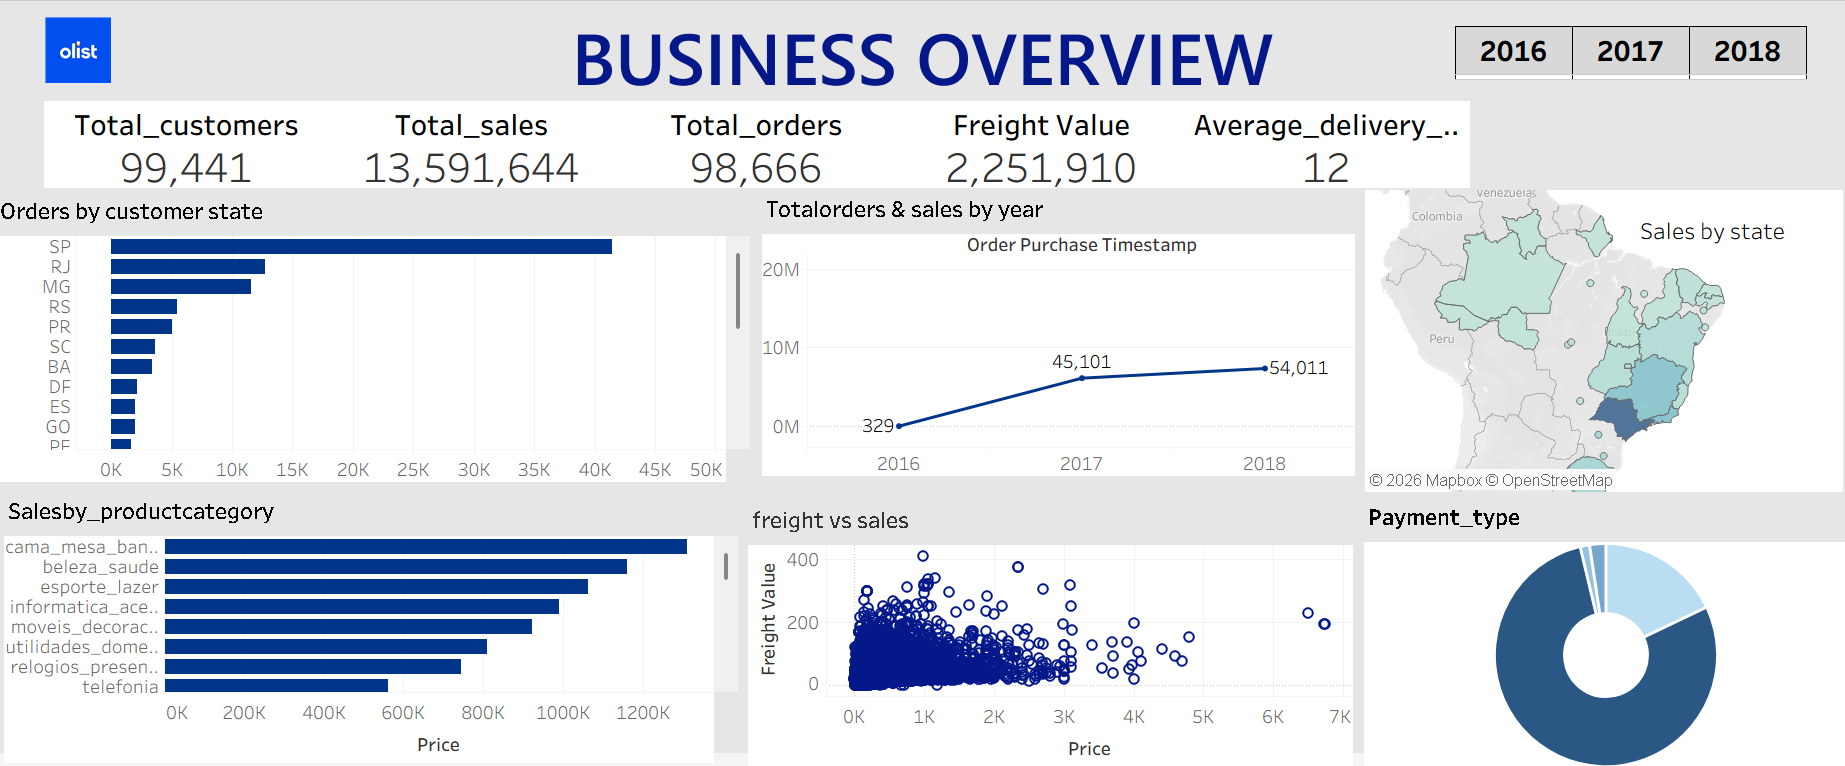

The dashboard page shown, as its layout file describes it:
{"tool":"tableau","page":{"name":"Dashboard 1","canvas":[1000,1000],"units":"permille","ordinal":0},"visuals":[{"type":"worksheet","title":"slicers","mark":"Automatic","cols":["order_purchase_timestamp"],"box":[787.5,13.7,214.3,104.2]},{"type":"text","box":[7.2,14.9,985.5,105.5]},{"type":"image","param":"D:/OLIST-Ecommerce project/o list logo.png","box":[26.5,21.1,44,88.1]},{"type":"worksheet","title":"KPIs","mark":"Automatic","box":[62.7,98,847,134]},{"type":"text","box":[873.2,238.2,93.2,79.4]},{"type":"worksheet","title":"Sheet 11","mark":"Automatic","box":[738.1,249.4,258.9,404.5]},{"type":"worksheet","title":"Sheet 8","mark":"Line","rows":["price"],"cols":["order_purchase_timestamp"],"box":[413,250.6,324.5,382.1]},{"type":"worksheet","title":"Sheet 1","mark":"Automatic","rows":["customer_state"],"cols":["order_id"],"box":[0,253.1,412.4,387.1]}]}

Visuals, with their boxes on the dashboard's canvas, which has no fixed pixel size, in thousandths of its width and height (x1, y1, x2, y2). These are canvas units, not pixel positions in the 1845x766 screenshot, which may show the page scaled, cropped or inside an application window:
"slicers" worksheet: 788/14/1002/118
text: 7/15/993/120
image: 26/21/70/109
"KPIs" worksheet: 63/98/910/232
text: 873/238/966/318
"Sheet 11" worksheet: 738/249/997/654
"Sheet 8" worksheet (Line marks): 413/251/738/633
"Sheet 1" worksheet: 0/253/412/640
